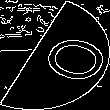O_NW: (12, 25, 98, 85)
